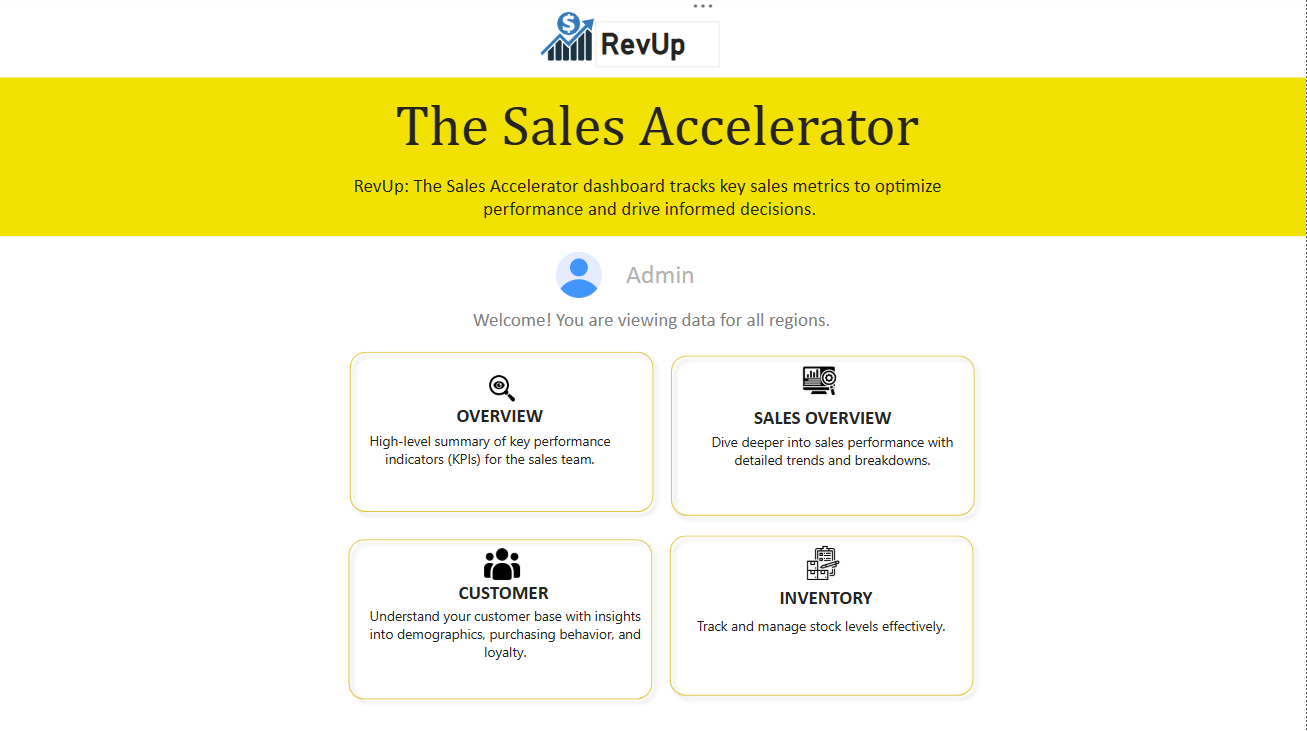

This screenshot's page, from the dashboard's own definition file:
{"tool":"powerbi","page":{"name":"Home","canvas":[1280,720],"ordinal":0},"visuals":[{"type":"shape","box":[0,80.7,1280.3,155.3],"z":0},{"type":"textbox","box":[344.3,394.9,291.9,44.4],"z":1000,"group":"g1"},{"type":"textbox","box":[9.6,87.8,1270.7,115.3],"z":1000},{"type":"image","box":[89.2,0,934.5,81],"z":2000},{"type":"image","box":[468.2,363.7,50,43.2],"z":2000,"group":"g1"},{"type":"textbox","box":[584.6,26.1,120.8,45.3],"z":3000},{"type":"textbox","box":[345.4,421.7,270,53.2],"z":3000,"group":"g1"},{"type":"textbox","box":[0,170.2,1270.7,65.9],"z":4000},{"type":"textbox","box":[665.6,397.4,281,44.4],"z":5000,"group":"g1"},{"type":"shape","box":[312.3,300.1,292.6,155.8],"z":5000},{"type":"textbox","box":[680.8,424,270,53.2],"z":6000,"group":"g1"},{"type":"shape","box":[625.7,296.6,292.6,155.8],"z":6000},{"type":"shape","box":[312.3,471.5,292.6,155.8],"z":7000},{"type":"textbox","box":[347.6,568.7,291.9,44.7],"z":8000,"group":"g1"},{"type":"shape","box":[629.2,462.8,292.6,155.8],"z":8000},{"type":"card","fields":{"Values":["Region Table.WelcomeMessage"]},"box":[520.9,244.6,254.3,57.5],"z":9000},{"type":"textbox","box":[350.1,593.4,290.5,87.9],"z":9000,"group":"g1"},{"type":"group","id":"g1","title":"Navigation Icons Home","box":[333.3,340.3,630.6,358.3],"z":10000},{"type":"textbox","box":[666.7,573.6,284.6,44.4],"z":11000,"group":"g1"},{"type":"textbox","box":[669.9,602.8,270,53.2],"z":12000,"group":"g1"},{"type":"card","fields":{"Values":["Region Table.WelcomeMessage"]},"box":[0,297.1,1279.1,42.8],"z":12000},{"type":"image","box":[507.5,245.8,122.3,56.3],"z":12500},{"type":"image","box":[778.2,356,50,43.2],"z":13000,"group":"g1"},{"type":"image","box":[468.2,534.8,50,44.7],"z":14000,"group":"g1"},{"type":"image","box":[782.3,533.3,50,44.7],"z":15000,"group":"g1"},{"type":"shape","box":[648.5,343.9,315.2,174.9],"z":15125,"group":"g1"},{"type":"shape","box":[647.9,520,315.2,174.9],"z":15250,"group":"g1"},{"type":"shape","box":[334.4,340.3,315.2,174.9],"z":15375,"group":"g1"},{"type":"shape","box":[333.3,523.8,315.2,174.9],"z":15500,"group":"g1"}]}

Visuals, with their boxes in screenshot pixels (x1, y1, x2, y2), scaled from the page's 1280x720 canvas onto the 1307x731 screenshot:
shape: (x1=0, y1=82, x2=1306, y2=240)
textbox: (x1=352, y1=401, x2=650, y2=446)
textbox: (x1=10, y1=89, x2=1306, y2=206)
image: (x1=91, y1=0, x2=1045, y2=82)
image: (x1=478, y1=369, x2=529, y2=413)
textbox: (x1=597, y1=26, x2=720, y2=72)
textbox: (x1=353, y1=428, x2=628, y2=482)
textbox: (x1=0, y1=173, x2=1298, y2=240)
textbox: (x1=680, y1=403, x2=967, y2=449)
shape: (x1=319, y1=305, x2=618, y2=463)
textbox: (x1=695, y1=430, x2=971, y2=484)
shape: (x1=639, y1=301, x2=938, y2=459)
shape: (x1=319, y1=479, x2=618, y2=637)
textbox: (x1=355, y1=577, x2=653, y2=623)
shape: (x1=642, y1=470, x2=941, y2=628)
card - Region Table.WelcomeMessage: (x1=532, y1=248, x2=792, y2=307)
textbox: (x1=357, y1=602, x2=654, y2=692)
"Navigation Icons Home" group: (x1=340, y1=345, x2=984, y2=709)
textbox: (x1=681, y1=582, x2=971, y2=627)
textbox: (x1=684, y1=612, x2=960, y2=666)
card - Region Table.WelcomeMessage: (x1=0, y1=302, x2=1306, y2=345)
image: (x1=518, y1=250, x2=643, y2=307)
image: (x1=795, y1=361, x2=846, y2=405)
image: (x1=478, y1=543, x2=529, y2=588)
image: (x1=799, y1=541, x2=850, y2=587)
shape: (x1=662, y1=349, x2=984, y2=527)
shape: (x1=662, y1=528, x2=983, y2=706)
shape: (x1=341, y1=345, x2=663, y2=523)
shape: (x1=340, y1=532, x2=662, y2=709)
